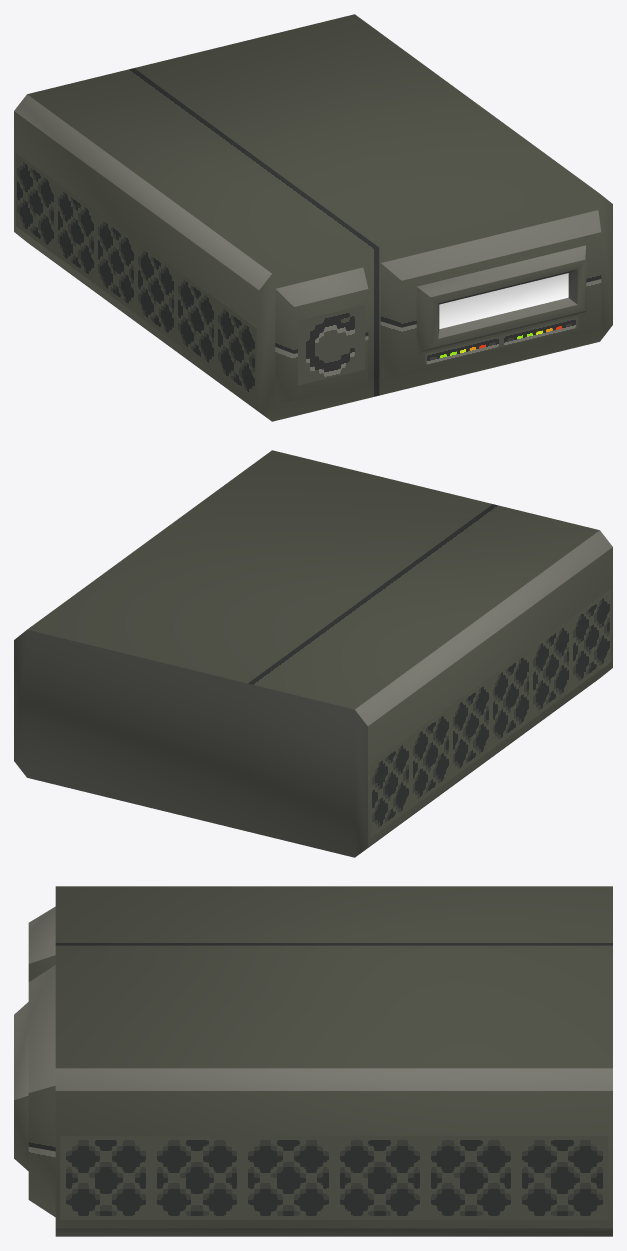
Rendered from ups.glb.
3 renders of one model, top to bottom at view 1: azimuth 30°, elevation 25°; view 2: azimuth 150°, elevation 25°; view 3: azimuth 270°, elevation 25°, orthographic. The views are drawn at different scales.
Visible parts, largest first — view 1: Plane.033; view 2: Plane.033; view 3: Plane.033.
Boxes of the visible parts, x1,y1,x2,y2 form: Plane.033: (14, 14, 612, 421); Plane.033: (14, 450, 612, 857); Plane.033: (14, 886, 612, 1236).
Bounding box in the file's own units: 0.5015 × 0.2 × 0.6449.
Materials: 1 (1 with a texture image).
